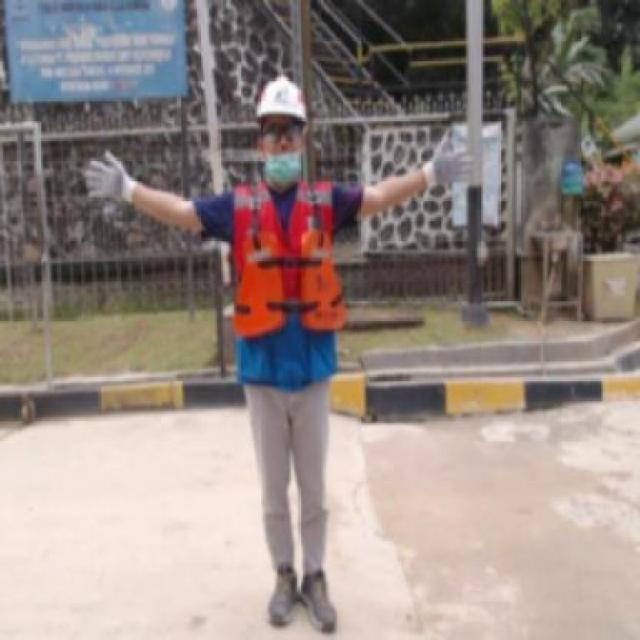Boots: (299, 568, 336, 634), (264, 566, 298, 628)
Gloves: (421, 129, 474, 196), (84, 150, 136, 216)
Helmet: (256, 71, 310, 124)
Mask: (264, 150, 298, 187)
Protective Glasses: (261, 122, 304, 142)
Vest: (234, 234, 348, 332)
